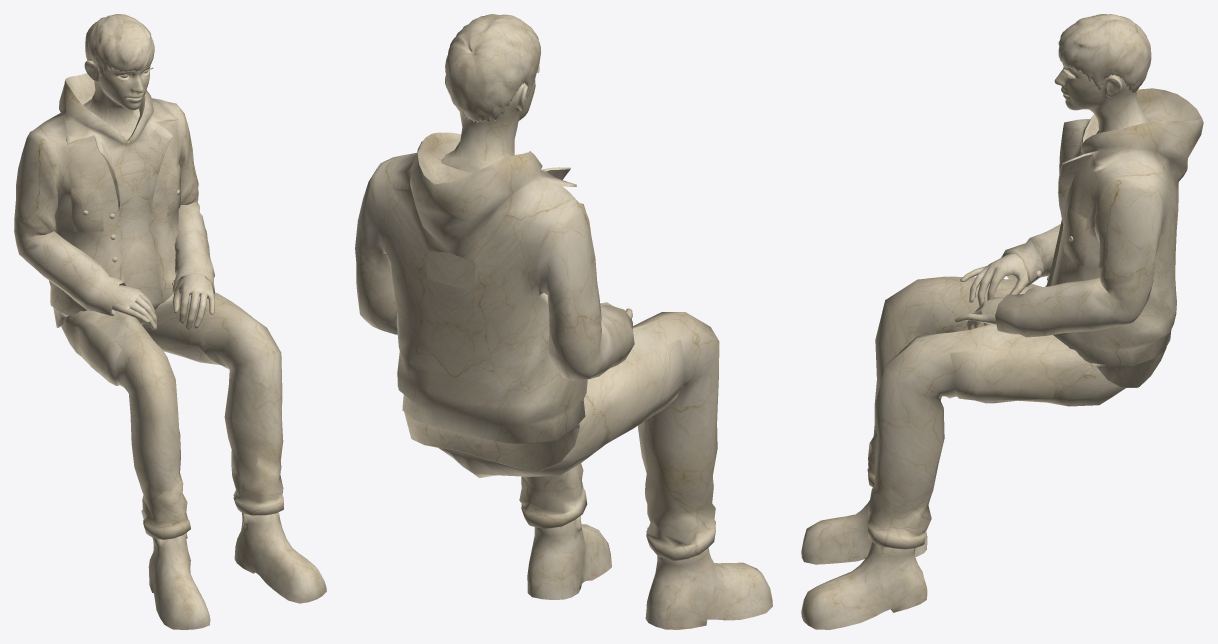
The model's file is Sample_Avatar_M_Sit_002.fbx.
3 renders of one model, left to right at view 1: azimuth 30°, elevation 25°; view 2: azimuth 150°, elevation 25°; view 3: azimuth 270°, elevation 25°, orthographic. The views are drawn at different scales.
Parts seen in each view (by area): view 1: Sample_Avatar_M_Sit_002; view 2: Sample_Avatar_M_Sit_002; view 3: Sample_Avatar_M_Sit_002.
Boxes of the visible parts, bbox=[...] form: Sample_Avatar_M_Sit_002: bbox=[14, 14, 326, 629]; Sample_Avatar_M_Sit_002: bbox=[355, 14, 772, 629]; Sample_Avatar_M_Sit_002: bbox=[801, 14, 1203, 629].
Bounding box in the file's own units: 0.5074 × 1.39 × 0.8907.
